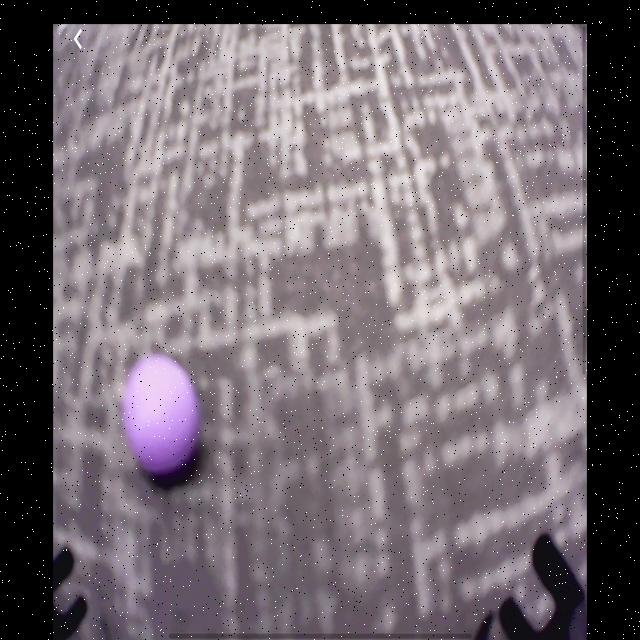ball: (121, 355, 202, 477)
